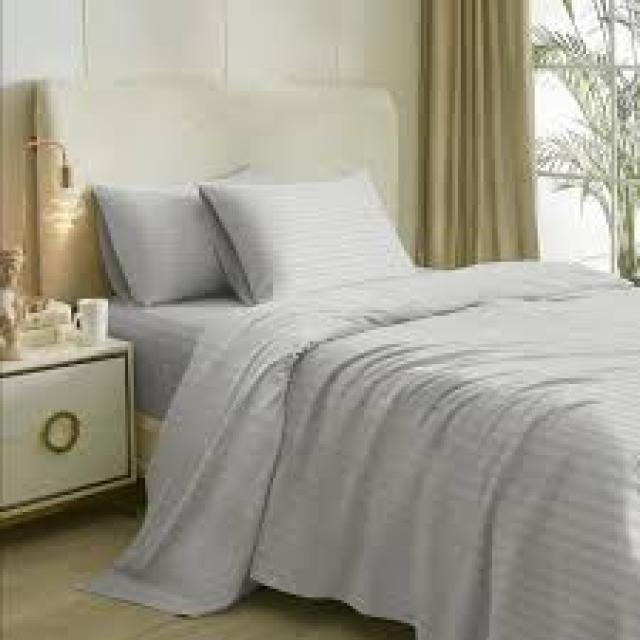bed: (28, 77, 638, 638)
